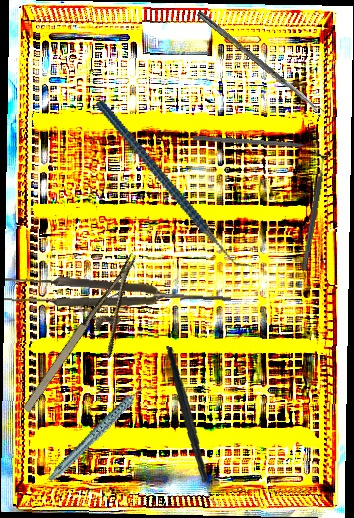Chopper: (94, 70, 256, 300), (152, 346, 236, 508)
Fixation Ring: (294, 149, 333, 272)
Handpiece: (32, 381, 168, 483)
Hook Surgical: (192, 135, 321, 151)
Needle Holder: (17, 252, 169, 432)
Surgical Spoon: (195, 10, 325, 117)
Tissue Forceps: (3, 274, 232, 315)
